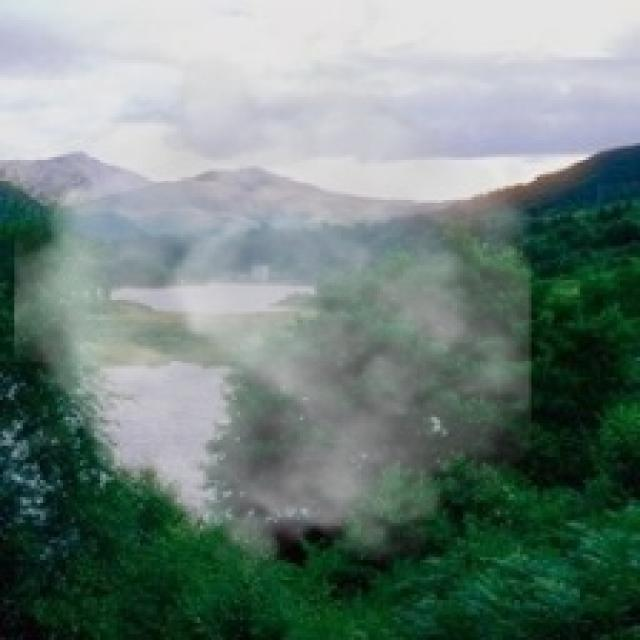smoke: (14, 51, 532, 580)
